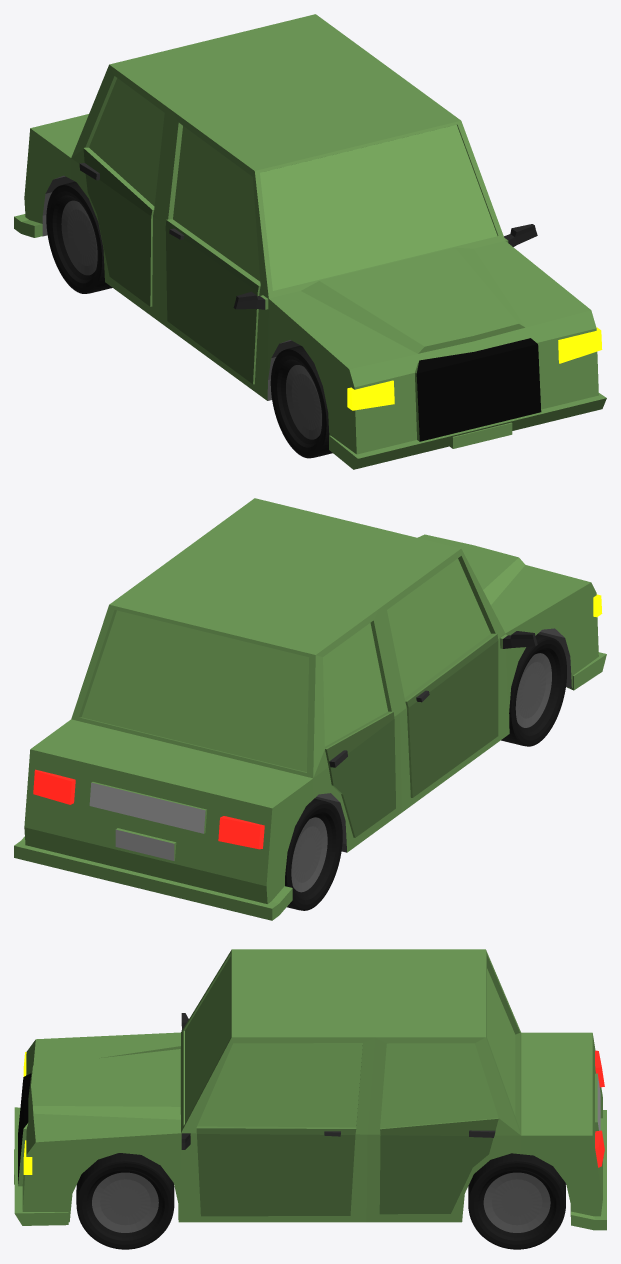
Rendered from asset.gltf.
3 renders of one model, top to bottom at view 1: azimuth 30°, elevation 25°; view 2: azimuth 150°, elevation 25°; view 3: azimuth 270°, elevation 25°, orthographic. The views are drawn at different scales.
Parts seen in each view (by area): view 1: SimpleCar_Body_3, SimpleCar_Body_Tire_FR_7, SimpleCar_Body_Tire_BR_11; view 2: SimpleCar_Body_3, SimpleCar_Body_Tire_FR_7, SimpleCar_Body_Tire_BR_11; view 3: SimpleCar_Body_3, SimpleCar_Body_Tire_FL_5, SimpleCar_Body_Tire_BL_9.
Part boxes in pixels (x1=…): SimpleCar_Body_3: x1=14, y1=14, x2=606, y2=469; SimpleCar_Body_Tire_FR_7: x1=270, y1=345, x2=332, y2=458; SimpleCar_Body_Tire_BR_11: x1=46, y1=181, x2=112, y2=293; SimpleCar_Body_3: x1=14, y1=498, x2=606, y2=920; SimpleCar_Body_Tire_FR_7: x1=501, y1=634, x2=566, y2=746; SimpleCar_Body_Tire_BR_11: x1=285, y1=798, x2=342, y2=910; SimpleCar_Body_3: x1=14, y1=949, x2=606, y2=1230; SimpleCar_Body_Tire_FL_5: x1=76, y1=1153, x2=174, y2=1249; SimpleCar_Body_Tire_BL_9: x1=468, y1=1153, x2=565, y2=1249.
Size of what is drawn, in the model's own units: 2.1 by 1.56 by 4.1.
